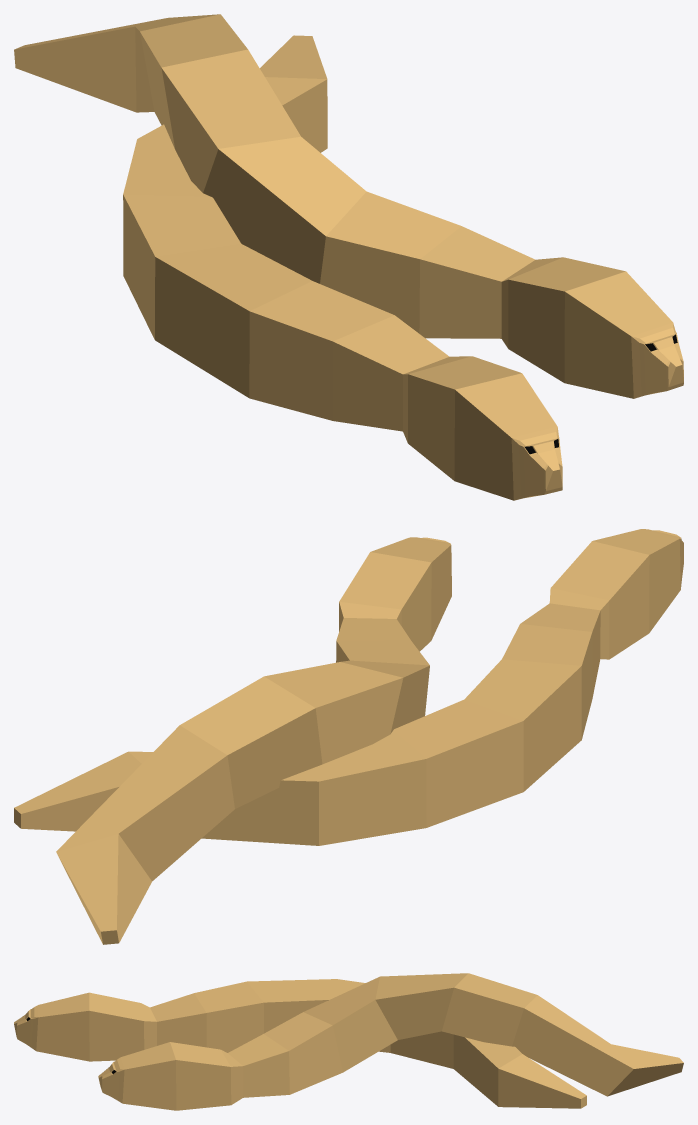
File: obj_worms.fbx
3 views of the same model, one above another, from view 1: azimuth 30°, elevation 25°; view 2: azimuth 150°, elevation 25°; view 3: azimuth 270°, elevation 25° (orthographic). The views are drawn at different scales.
Visible parts, largest first — view 1: Obj_worms; view 2: Obj_worms; view 3: Obj_worms.
Boxes of the visible parts, <box> form: Obj_worms: <box>14,14,683,500</box>; Obj_worms: <box>14,529,683,944</box>; Obj_worms: <box>14,973,683,1110</box>.
Bounding box in the file's own units: 995 × 419 × 2759.
